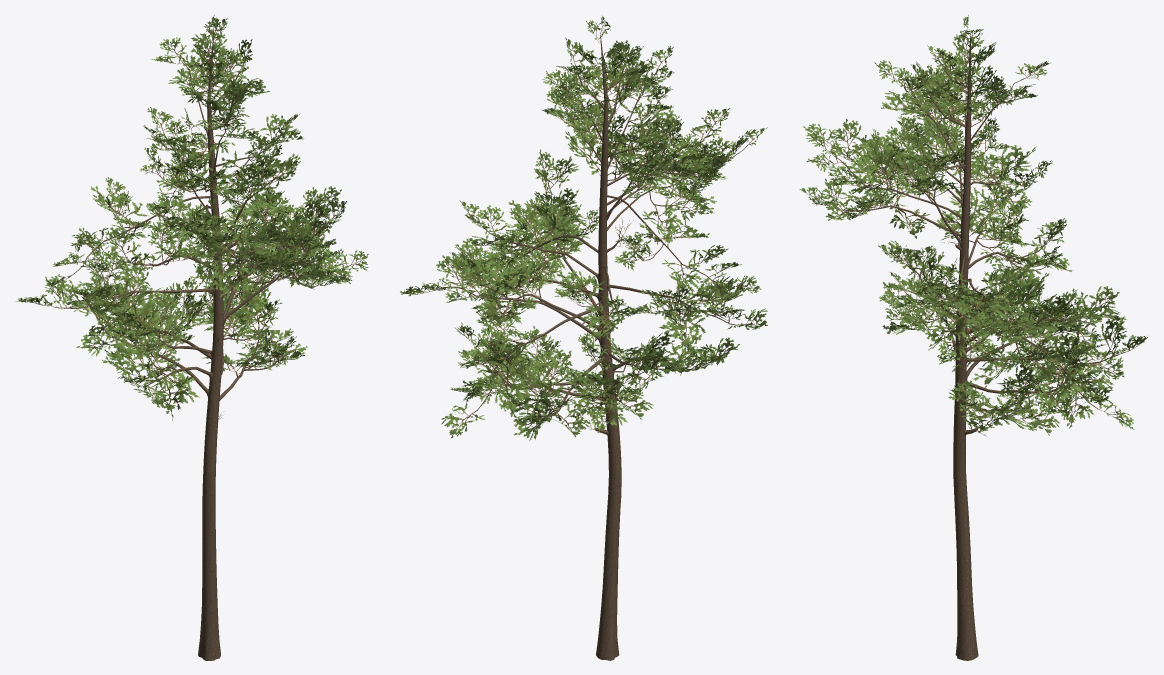
File: tree_pine_a.glb
3 renders of one model, left to right at view 1: azimuth 30°, elevation 25°; view 2: azimuth 150°, elevation 25°; view 3: azimuth 270°, elevation 25°, orthographic.
Visible parts, largest first — view 1: tree_pine_a; view 2: tree_pine_a; view 3: tree_pine_a.
Boxes of the visible parts, <box> form: tree_pine_a: <box>15,15,368,660</box>; tree_pine_a: <box>400,16,767,660</box>; tree_pine_a: <box>799,15,1147,660</box>.
Bounding box in the file's own units: 62.79 × 114 × 56.24.
2 materials, 2 textured.
